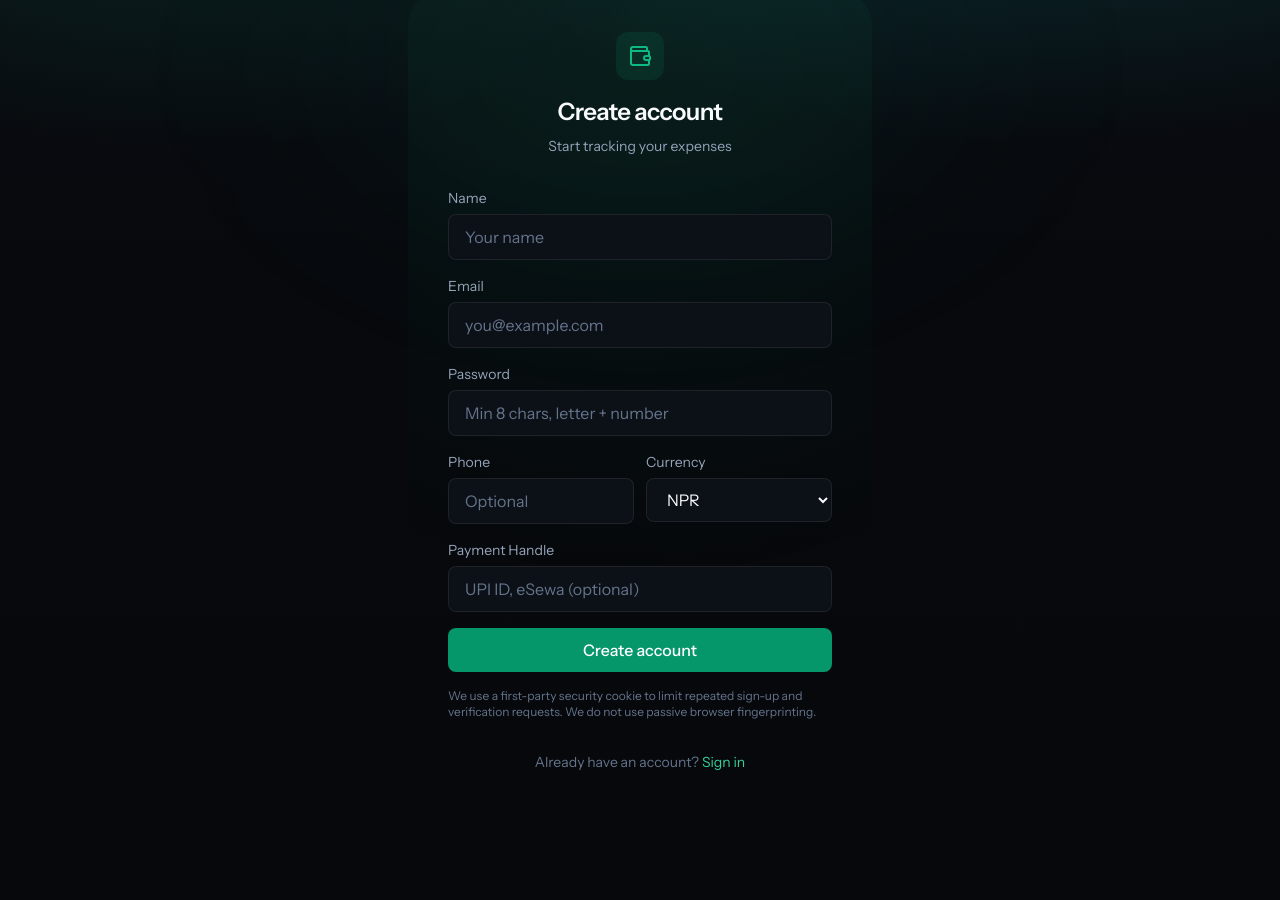
Test: RegisterPage validation › displays API error on registration failure
The image size is (1280, 900).
Type "Test User" into the field with placeholder "Your name" at (640, 237), box [448, 214, 832, 260]
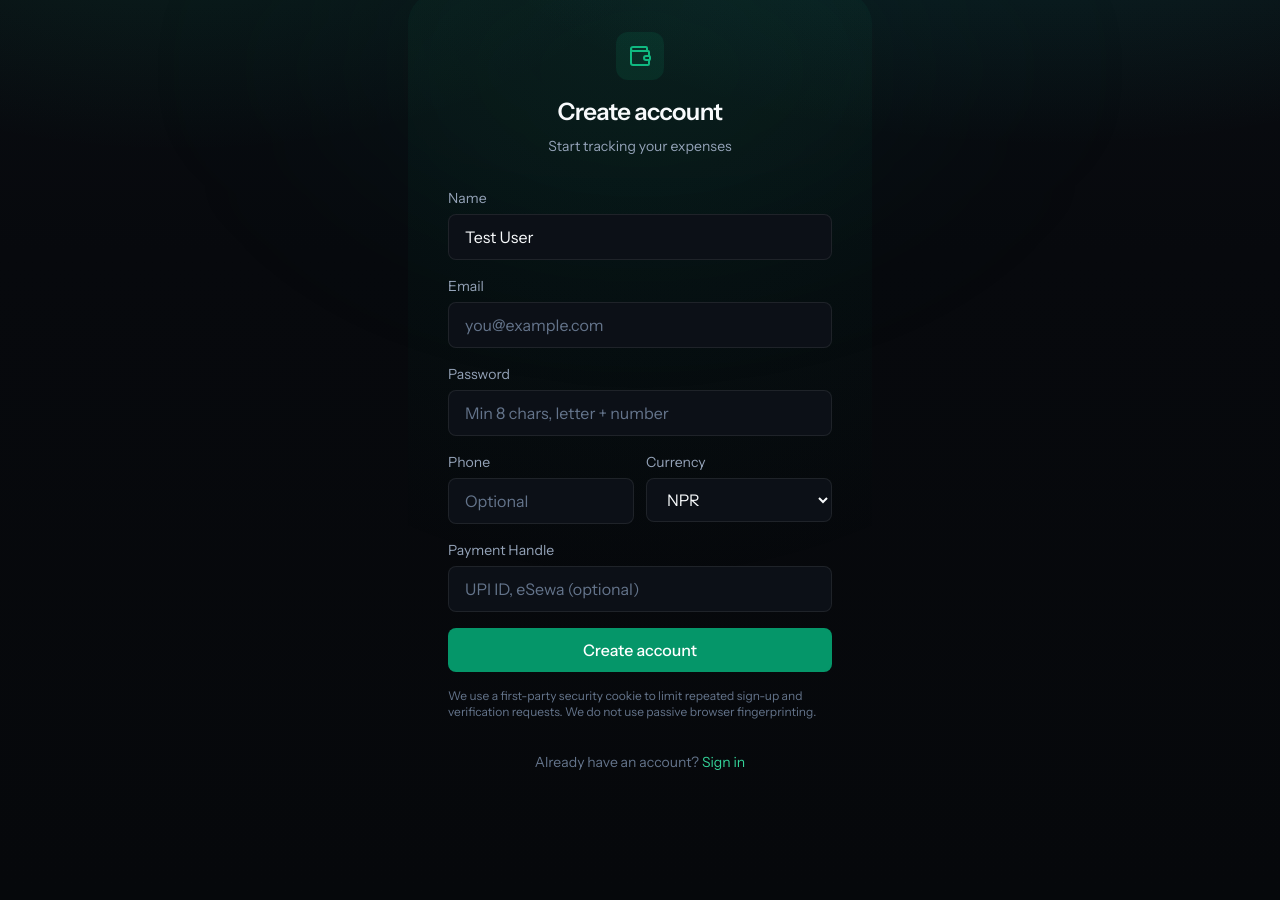
Type "existing@example.com" into the field with placeholder "you@example.com" at (640, 325), box [448, 302, 832, 348]
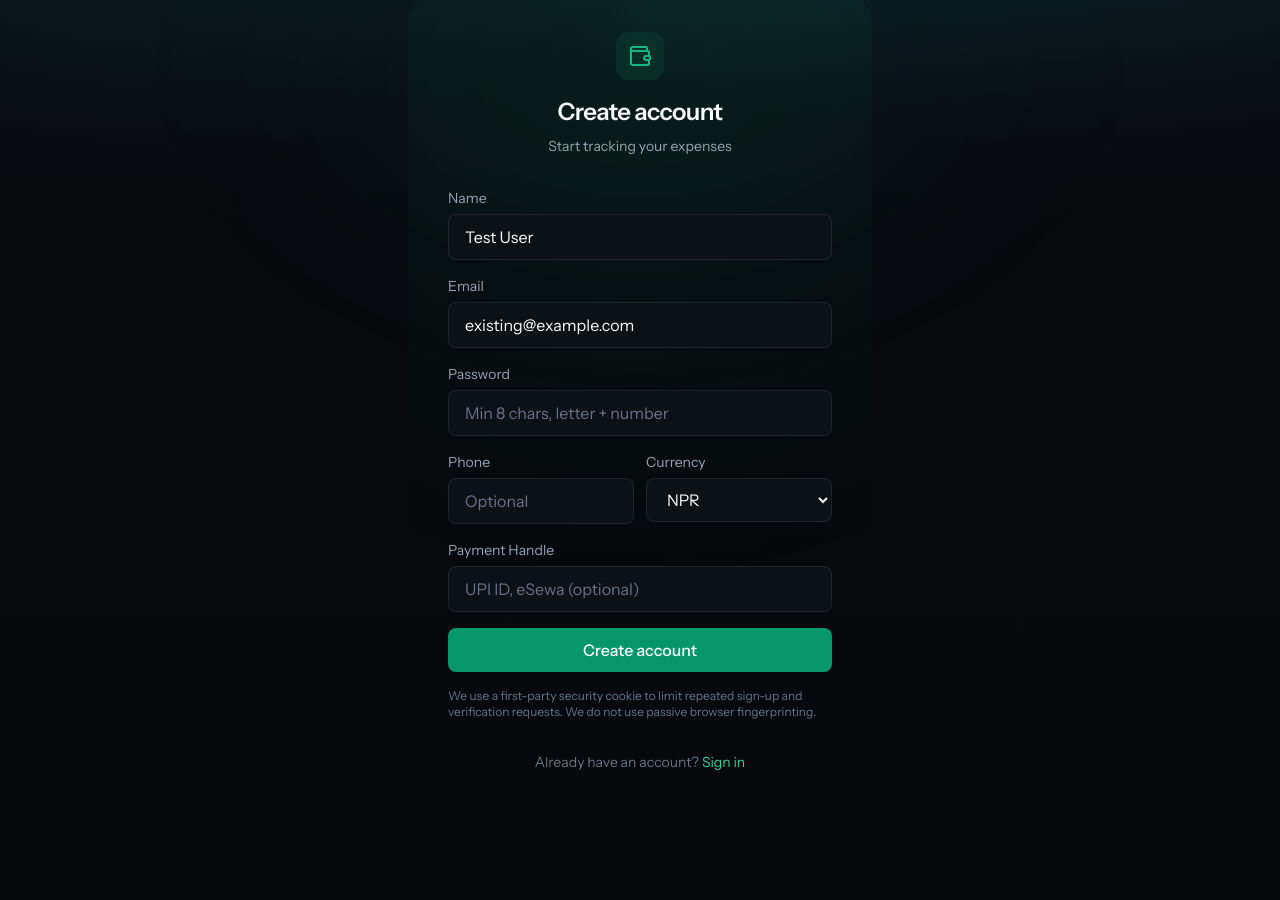
Type "ValidPass123" into the password field with placeholder "Min 8 chars, letter + number" at (640, 413), box [448, 390, 832, 436]
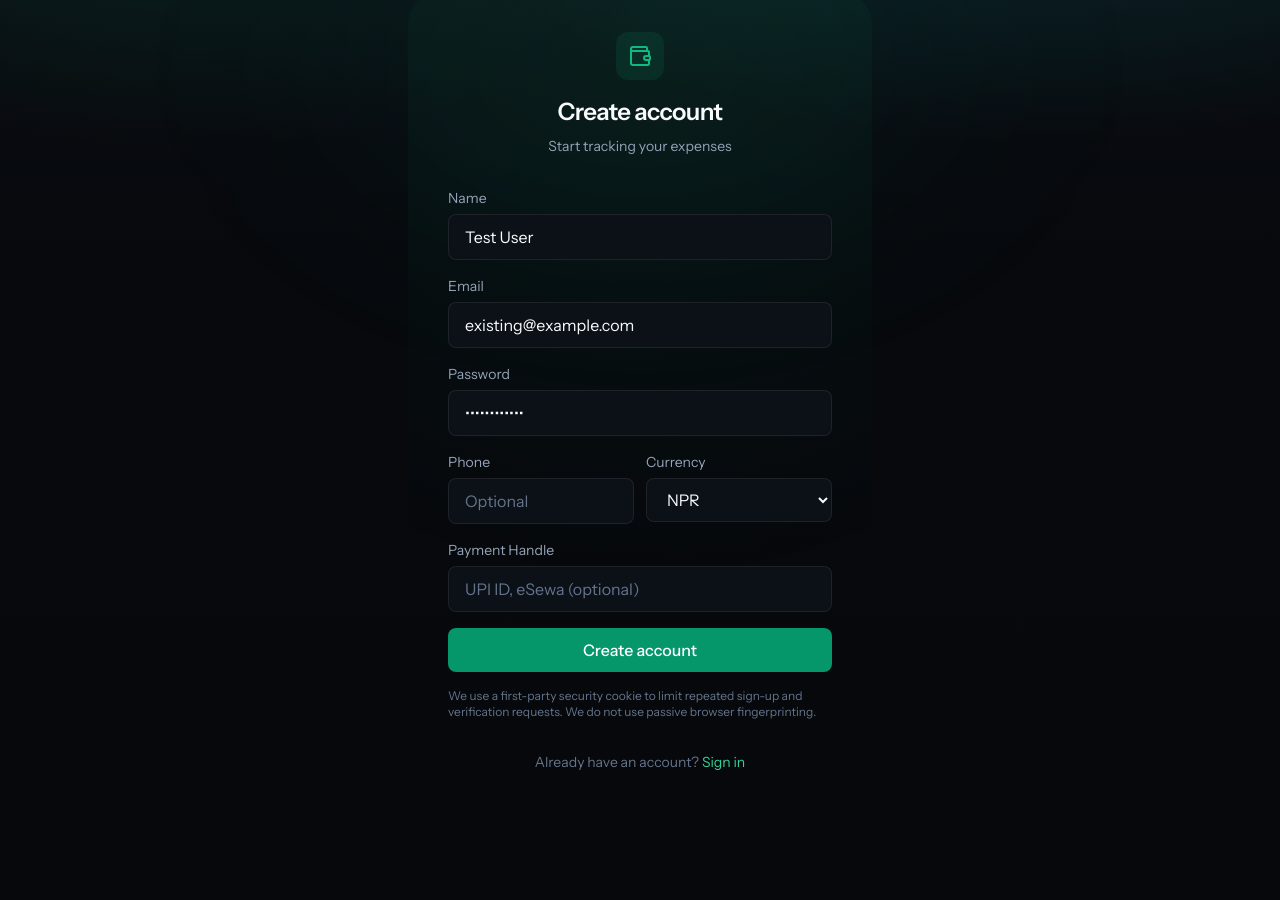
Click the button "Create account" at (640, 650), box [448, 628, 832, 672]
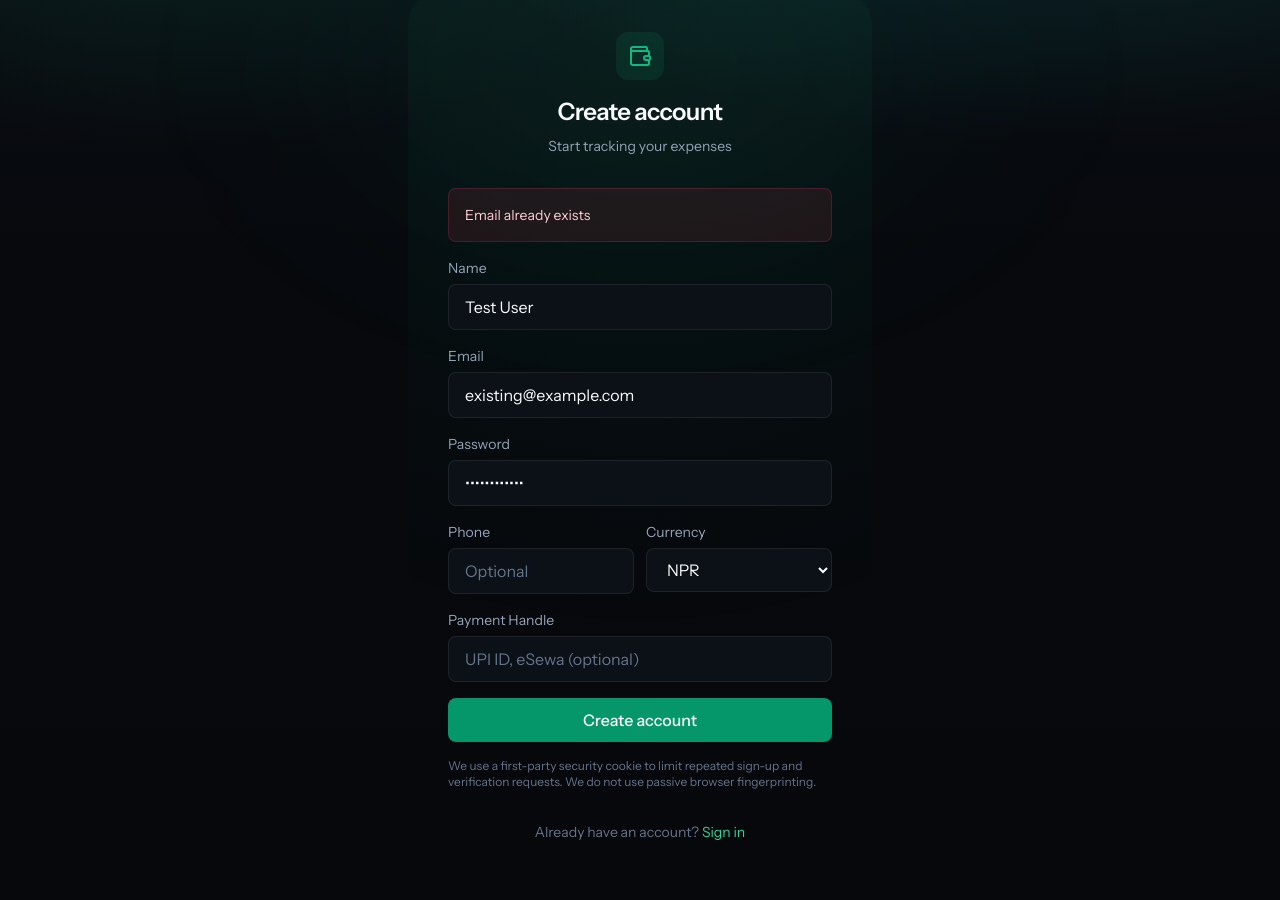
Expected: the text "Email already exists" is shown, [465, 205, 590, 225]
